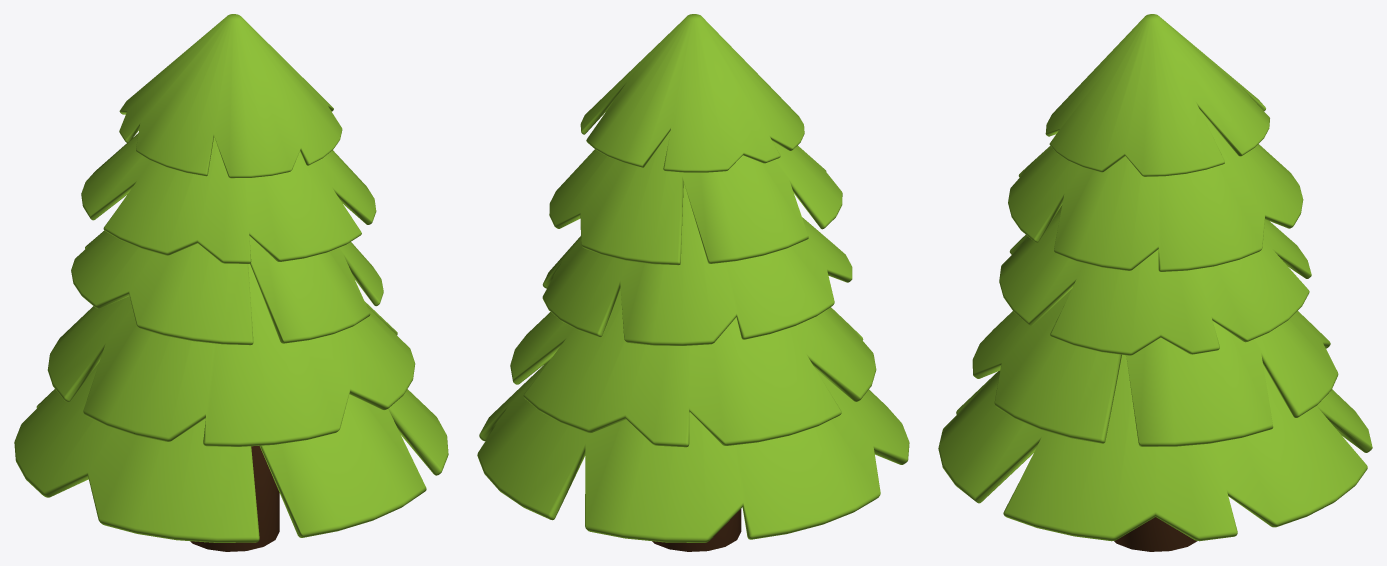
The model's file is tree1.glb.
3 views of the same model, side by side, from view 1: azimuth 30°, elevation 25°; view 2: azimuth 150°, elevation 25°; view 3: azimuth 270°, elevation 25° (orthographic).
Visible parts, largest first — view 1: Cylinder, Cylinder.001, Cylinder.003, Cylinder.004, Cylinder.002, Cylinder.005; view 2: Cylinder, Cylinder.001, Cylinder.003, Cylinder.002, Cylinder.004, Cylinder.005; view 3: Cylinder, Cylinder.001, Cylinder.003, Cylinder.002, Cylinder.004, Cylinder.005.
Part boxes in pixels (box(x1,y1,x2,y2)): Cylinder: box(14, 362, 448, 542); Cylinder.001: box(47, 264, 415, 446); Cylinder.003: box(81, 133, 376, 263); Cylinder.004: box(119, 14, 342, 178); Cylinder.002: box(71, 230, 383, 345); Cylinder.005: box(190, 445, 279, 551); Cylinder: box(477, 360, 909, 542); Cylinder.001: box(510, 290, 876, 447); Cylinder.003: box(549, 131, 842, 265); Cylinder.002: box(542, 182, 852, 345); Cylinder.004: box(580, 14, 804, 172); Cylinder.005: box(652, 509, 741, 551); Cylinder: box(938, 355, 1372, 541); Cylinder.001: box(972, 289, 1338, 446); Cylinder.003: box(1008, 112, 1303, 271); Cylinder.002: box(999, 205, 1311, 355); Cylinder.004: box(1045, 14, 1269, 176); Cylinder.005: box(1114, 517, 1197, 551).
Bounding box in the file's own units: 3.49 × 4.61 × 3.52.
